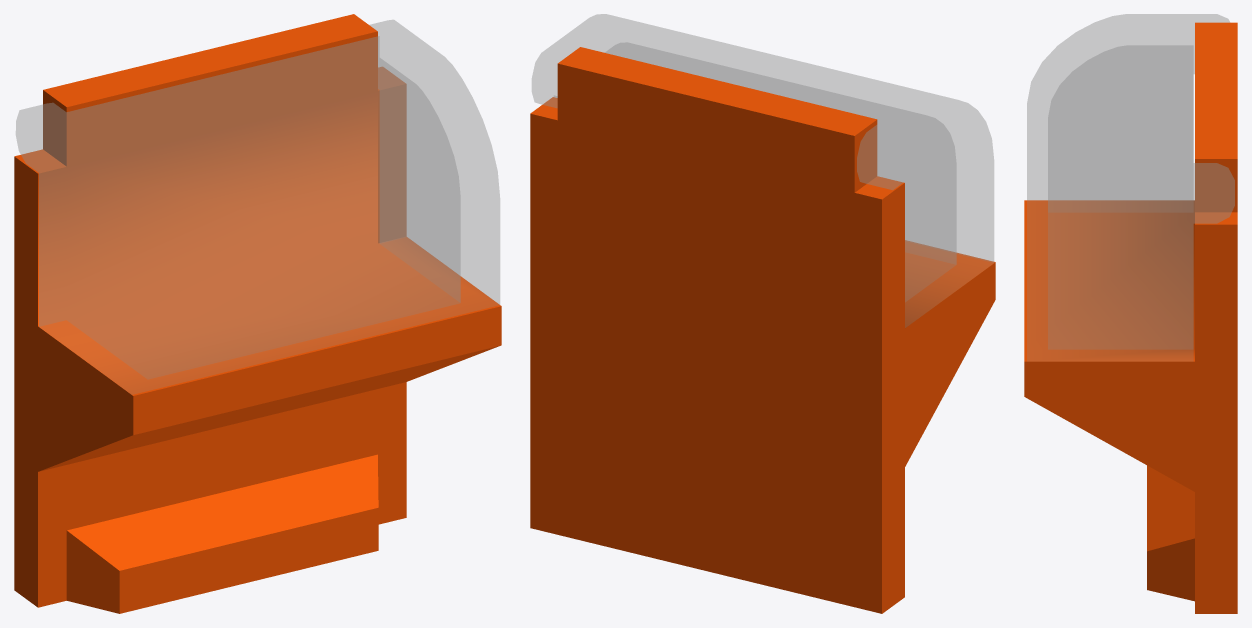
The picture shows the model from 3 angles, left to right: view 1: azimuth 30°, elevation 25°; view 2: azimuth 150°, elevation 25°; view 3: azimuth 270°, elevation 25°; orthographic projection. The views are drawn at different scales.
Parts seen in each view (by area): view 1: Box027, Line001; view 2: Box027, Line001; view 3: Box027, Line001.
Boxes of the visible parts, x1=… form: Box027: x1=14, y1=14, x2=501, y2=613; Line001: x1=15, y1=19, x2=500, y2=394; Box027: x1=530, y1=47, x2=995, y2=613; Line001: x1=531, y1=14, x2=994, y2=327; Box027: x1=1024, y1=22, x2=1237, y2=613; Line001: x1=1027, y1=14, x2=1234, y2=361.
Size of the model in its own units: 40 by 22.37 by 51.18.
